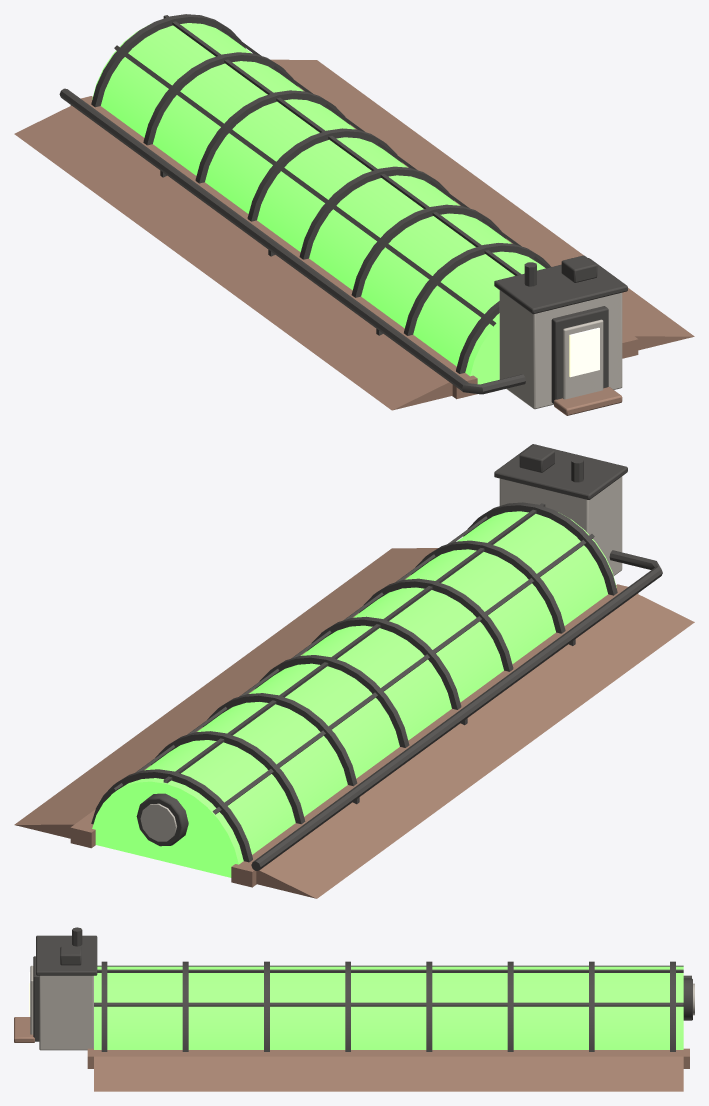
Rendered from crop_tube.glb.
The picture shows the model from 3 angles, top to bottom: view 1: azimuth 30°, elevation 25°; view 2: azimuth 150°, elevation 25°; view 3: azimuth 270°, elevation 25°; orthographic projection. The views are drawn at different scales.
Visible parts, largest first — view 1: crop_tube; view 2: crop_tube; view 3: crop_tube.
Part boxes in pixels (x1,y1,x2,y2): crop_tube: (14,14,694,415); crop_tube: (14,444,694,898); crop_tube: (14,927,694,1091).
Size of the model in its own units: 6.48 by 2.51 by 16.17.
